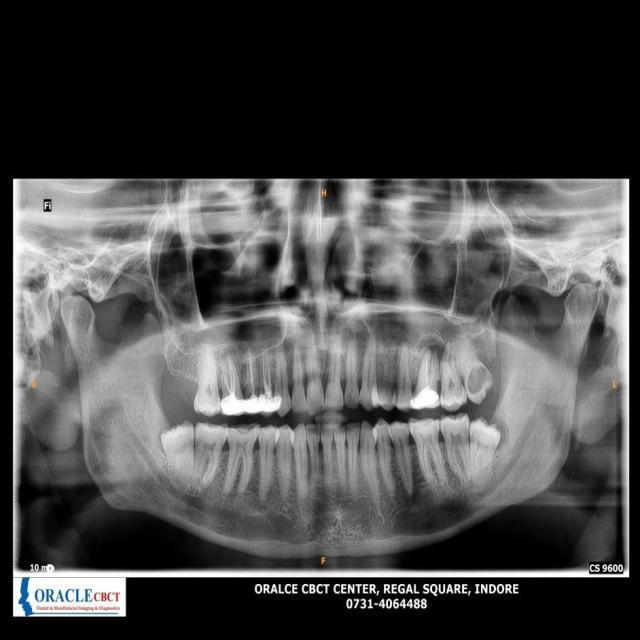dentin-curugu: (466, 366, 487, 394)
kanal-tedavisi: (259, 352, 276, 392), (418, 353, 437, 388), (222, 361, 238, 396), (245, 352, 258, 394)
kaplama: (410, 387, 438, 408), (260, 391, 281, 414), (220, 396, 243, 416), (243, 394, 263, 415)
